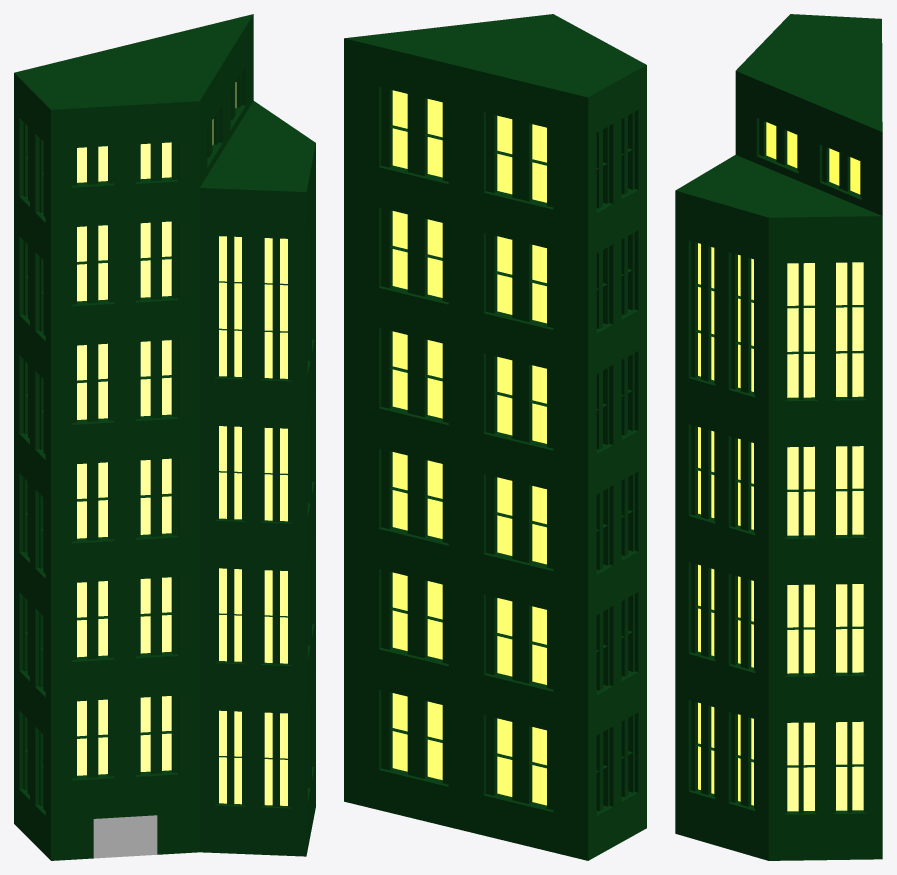
Rendered from capricorn_tower.fbx.
The picture shows the model from 3 angles, left to right: view 1: azimuth 30°, elevation 25°; view 2: azimuth 150°, elevation 25°; view 3: azimuth 270°, elevation 25°; orthographic projection. The views are drawn at different scales.
Parts seen in each view (by area): view 1: Plane; view 2: Plane; view 3: Plane.
Boxes of the visible parts, x1,y1,x2,y2 form: Plane: [14, 14, 315, 860]; Plane: [344, 14, 646, 860]; Plane: [675, 14, 882, 860].
Bounding box in the file's own units: 919 × 2600 × 671.
